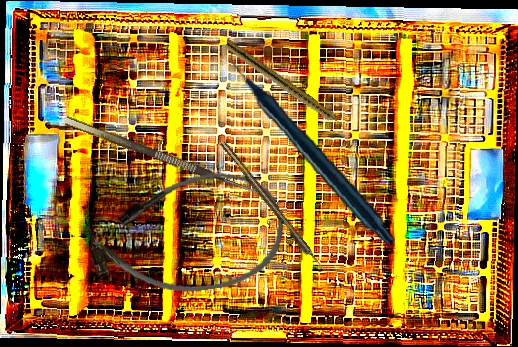Cannula: (81, 164, 291, 306)
Handpiece: (230, 33, 395, 258), (222, 39, 350, 134)
Hook Surgical: (64, 104, 283, 206), (219, 139, 327, 275)
